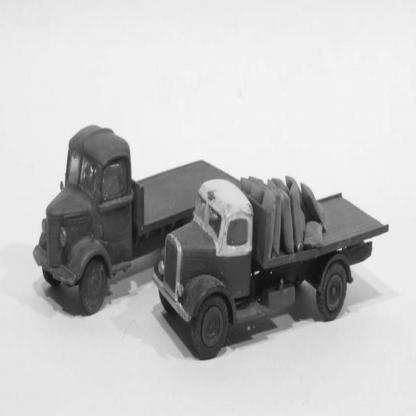truck: (148, 174, 394, 361), (8, 126, 240, 318)
